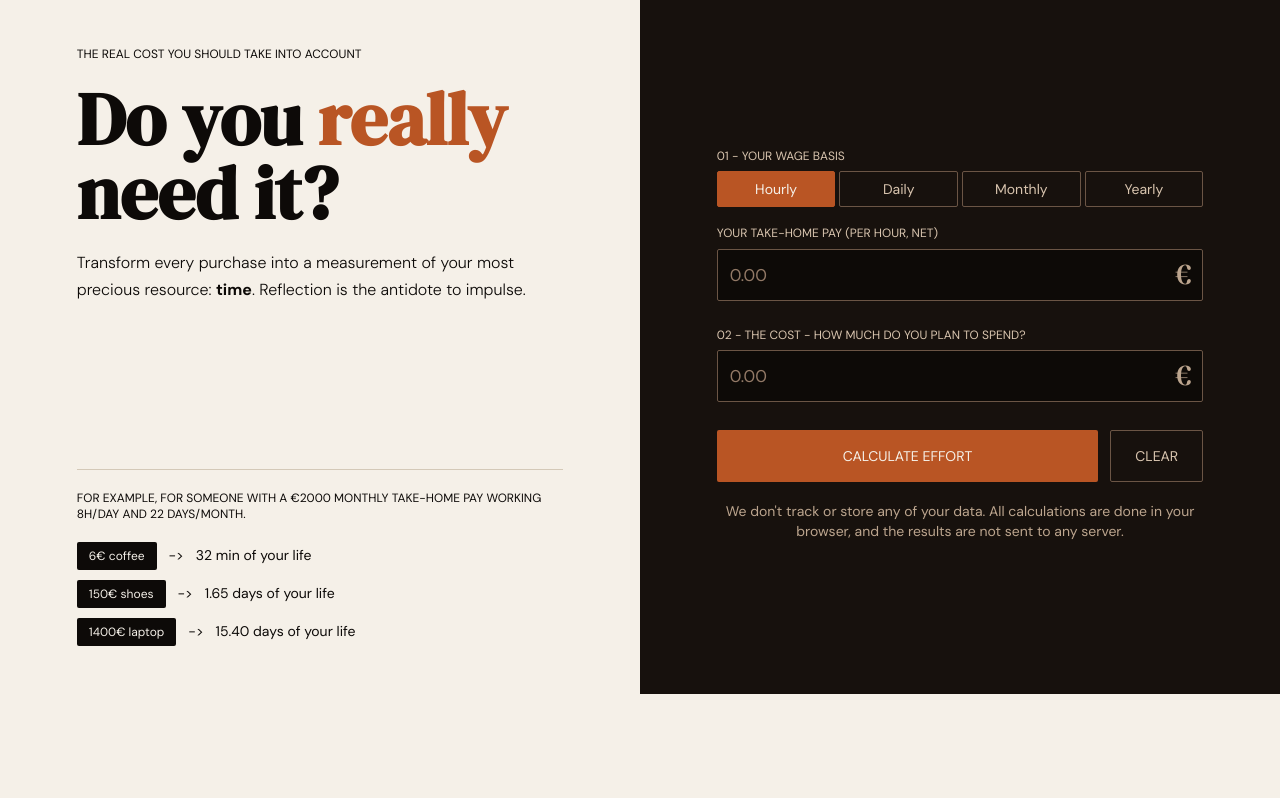
CalculatorPageContainer › shows 1000 euros as 100 hours with Very low affordability
The image size is (1280, 798).
In the number field labelled "Your take-home pay (per hour, net)": (960, 275) [717,249,1203,301], type "10"
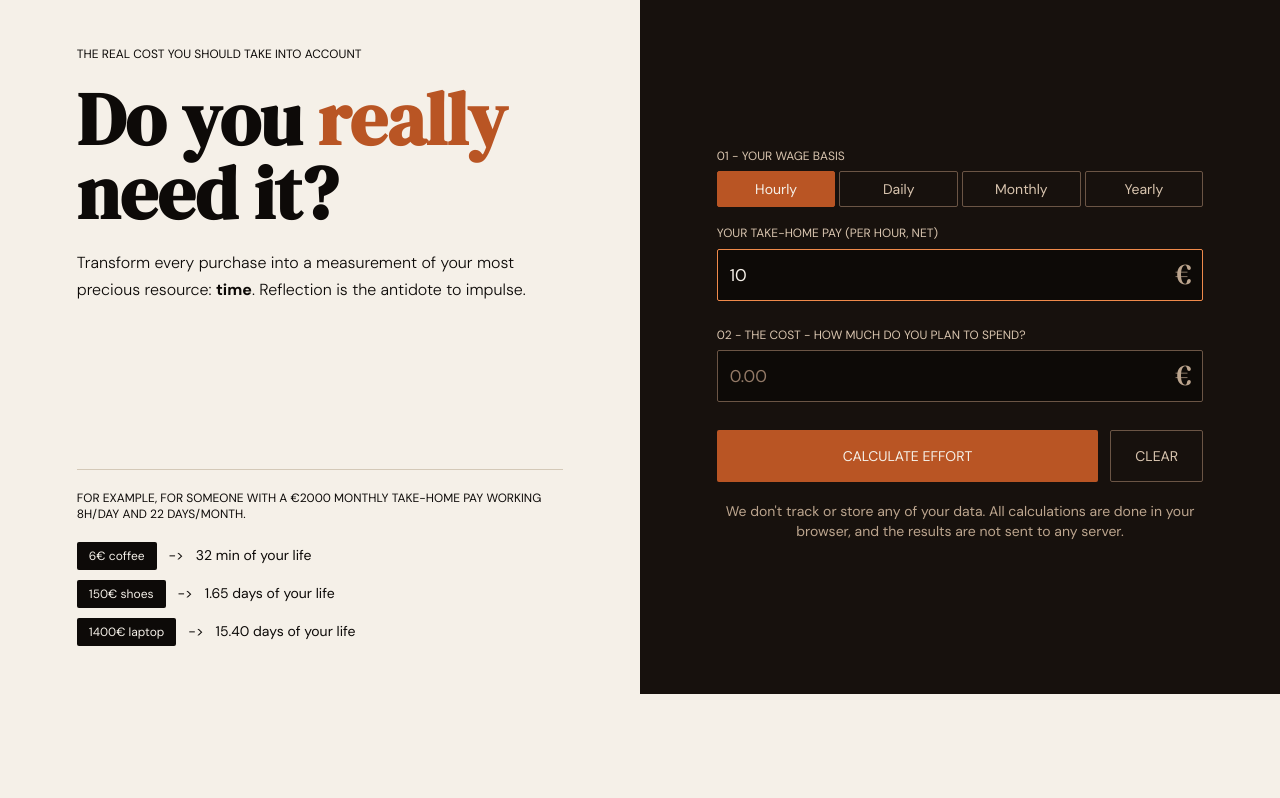
In the number field with placeholder "0.00": (960, 376) [717,350,1203,402], type "1000"
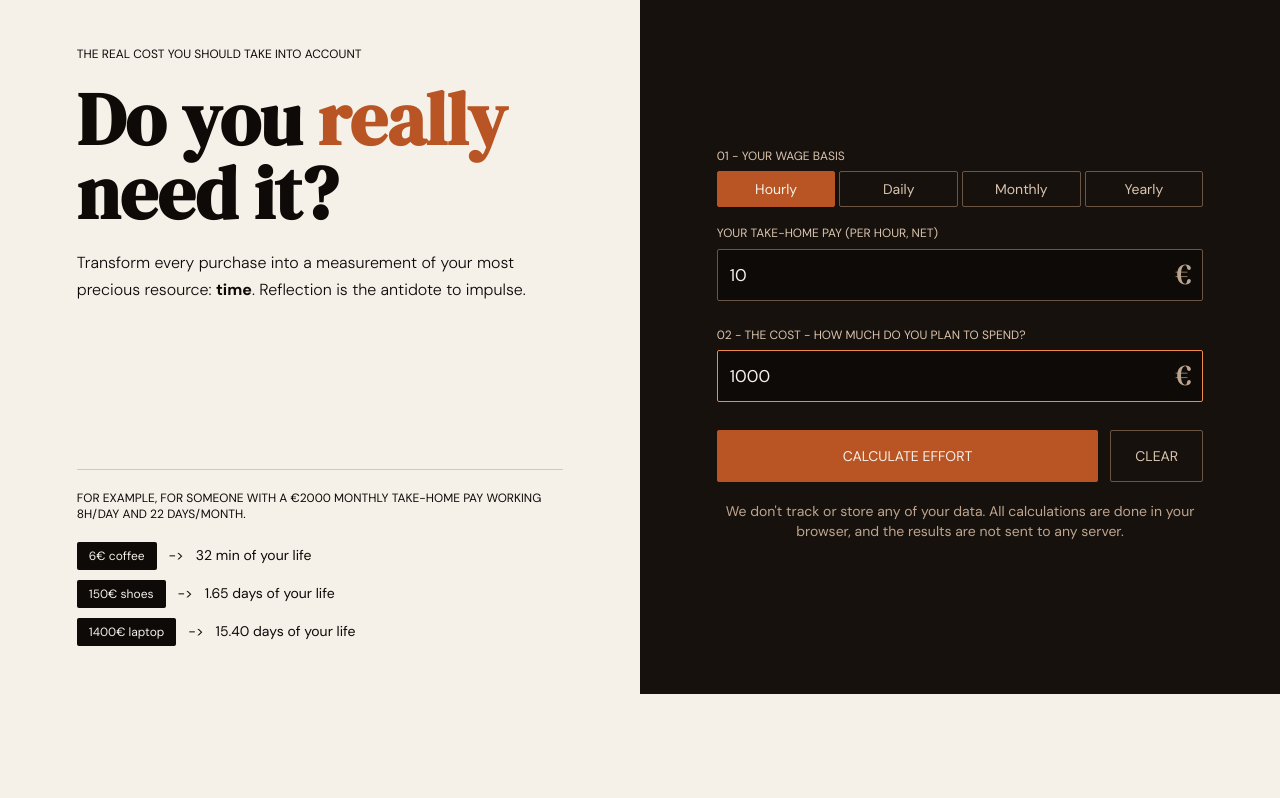
Click the button "Calculate Effort": (908, 456) [717,430,1098,482]
(page scrolled)
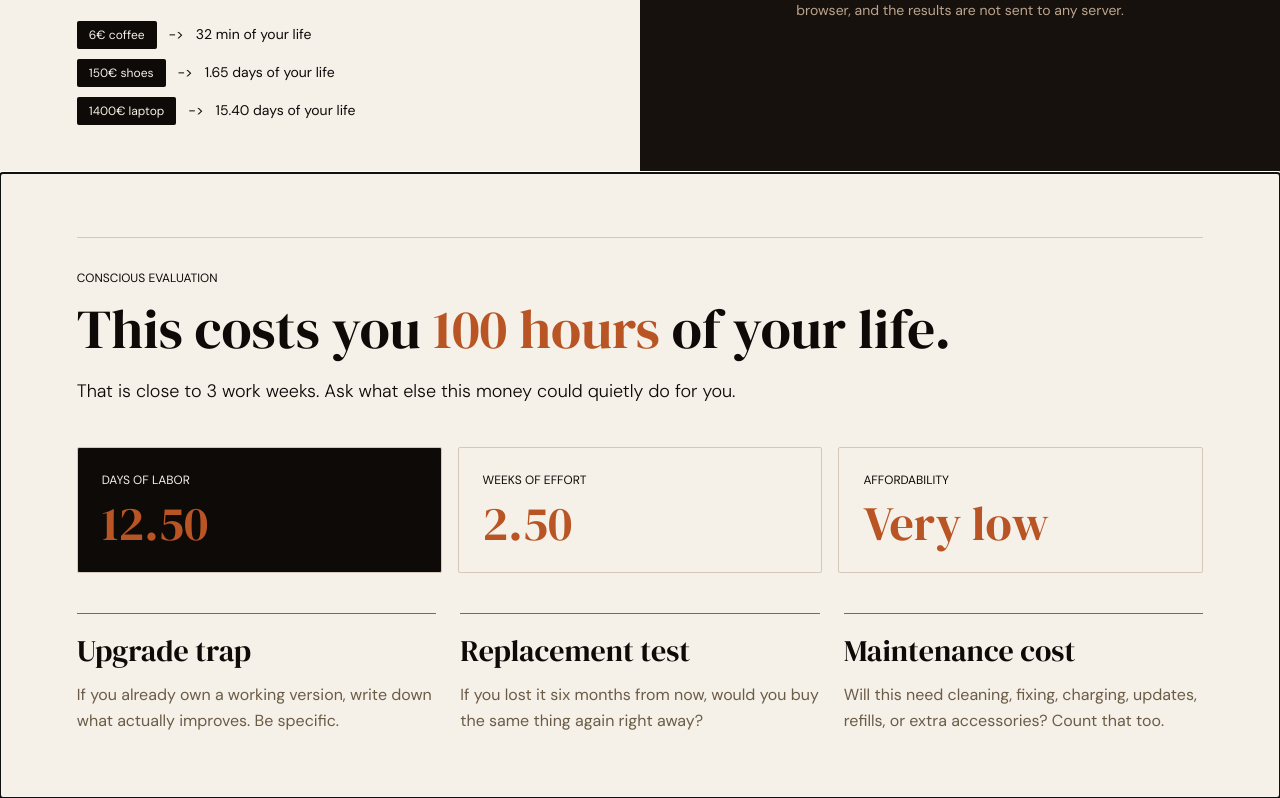
Check: the text "100 hours" is shown, box [433,292,660,367]
Check: the text "Very low" is shown, box [863,491,1049,557]
